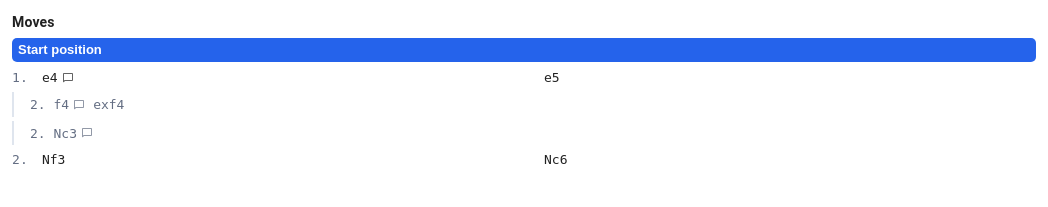
Test: useVariationsExplorer — the start position's menu (CTA-149) › offers Add comment and Arrows and circles… only, named for the start position
Right-click the button with test id "move-ply-0" at x=60, y=50, box [12,38,1036,62]
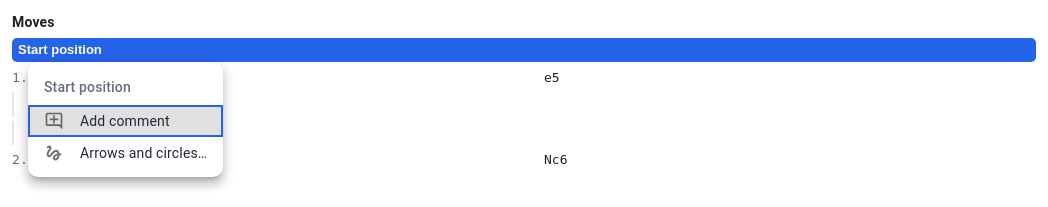
Expected: the text with test id "move-menu-move" reads "Start position", [44,79,131,95]
Expected: the menu item with test id "move-menu-comment" is shown, [28,105,223,137]
Expected: the menu item with test id "move-menu-shapes" is shown, [44,143,207,163]
